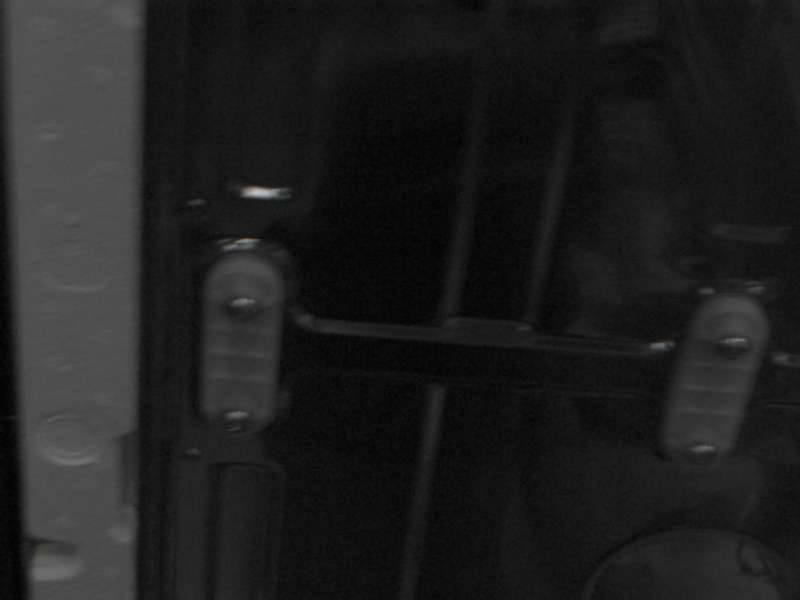screw: (714, 335, 752, 359), (225, 296, 263, 320), (686, 443, 718, 466), (222, 410, 252, 433)
